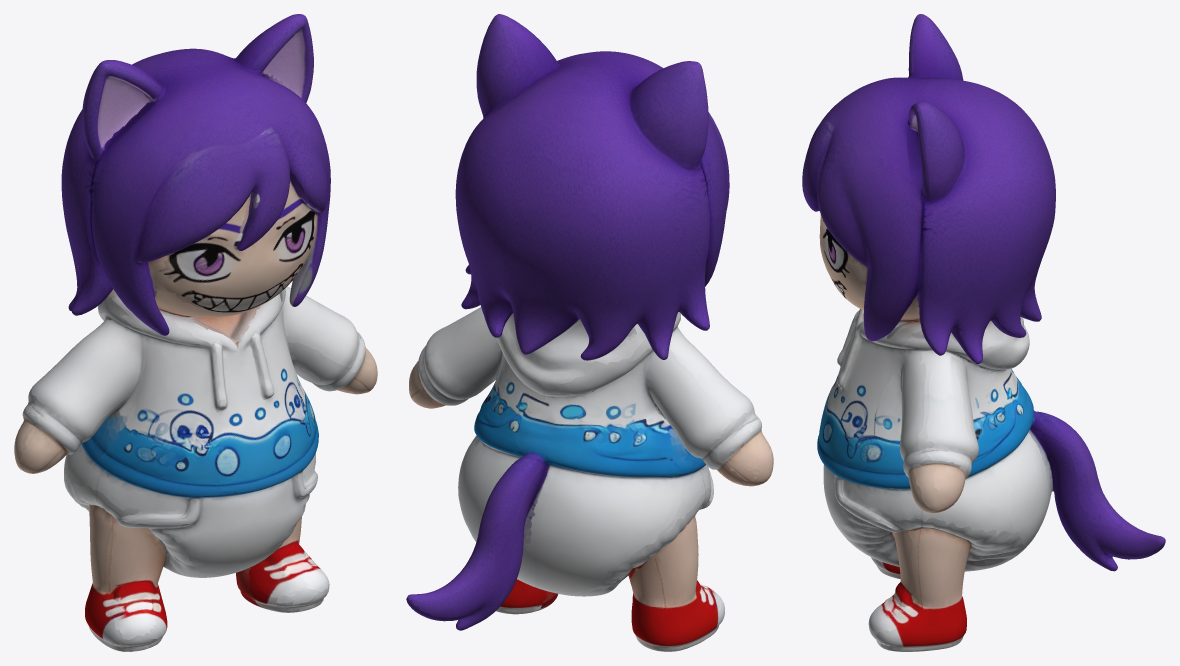
Rendered from posiadoll.glb.
3 views of the same model, side by side, from view 1: azimuth 30°, elevation 25°; view 2: azimuth 150°, elevation 25°; view 3: azimuth 270°, elevation 25° (orthographic). The views are drawn at different scales.
Visible parts, largest first — view 1: temp_mesh.ply; view 2: temp_mesh.ply; view 3: temp_mesh.ply.
Part boxes in pixels (x1,y1,x2,y2): temp_mesh.ply: (14, 14, 377, 651); temp_mesh.ply: (406, 14, 773, 651); temp_mesh.ply: (802, 14, 1165, 651).
Bounding box in the file's own units: 1.28 × 1.97 × 1.2.
1 material, 1 textured.
